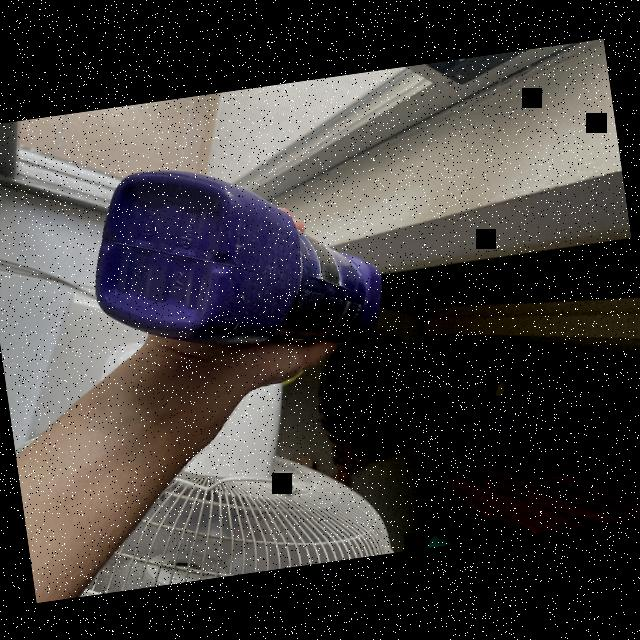toilet_cleaner: (76, 139, 396, 377)
